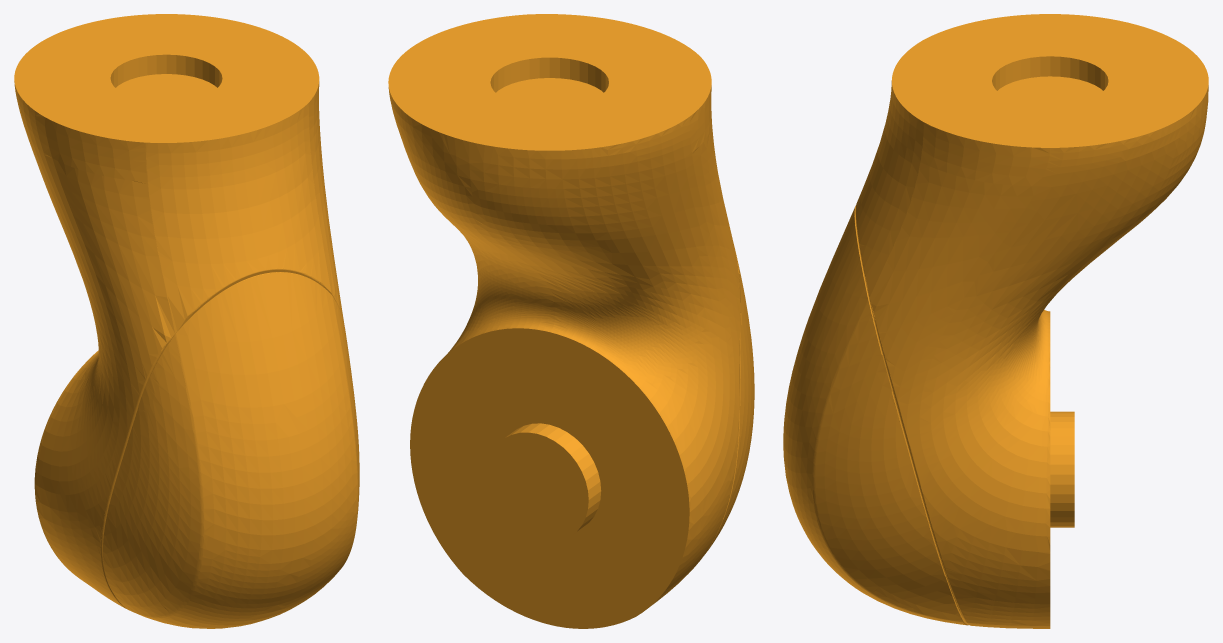
Rendered from KukaLBRiiwa7Link2.dae.
The picture shows the model from 3 angles, left to right: view 1: azimuth 30°, elevation 25°; view 2: azimuth 150°, elevation 25°; view 3: azimuth 270°, elevation 25°; orthographic projection. The views are drawn at different scales.
Visible parts, largest first — view 1: KUKAiiwa7Link2; view 2: KUKAiiwa7Link2; view 3: KUKAiiwa7Link2.
Boxes of the visible parts, x1,y1,x2,y2 form: KUKAiiwa7Link2: (14, 14, 359, 628); KUKAiiwa7Link2: (388, 14, 754, 628); KUKAiiwa7Link2: (783, 14, 1208, 628).
Bounding box in the file's own units: 0.136 × 0.1826 × 0.252.
